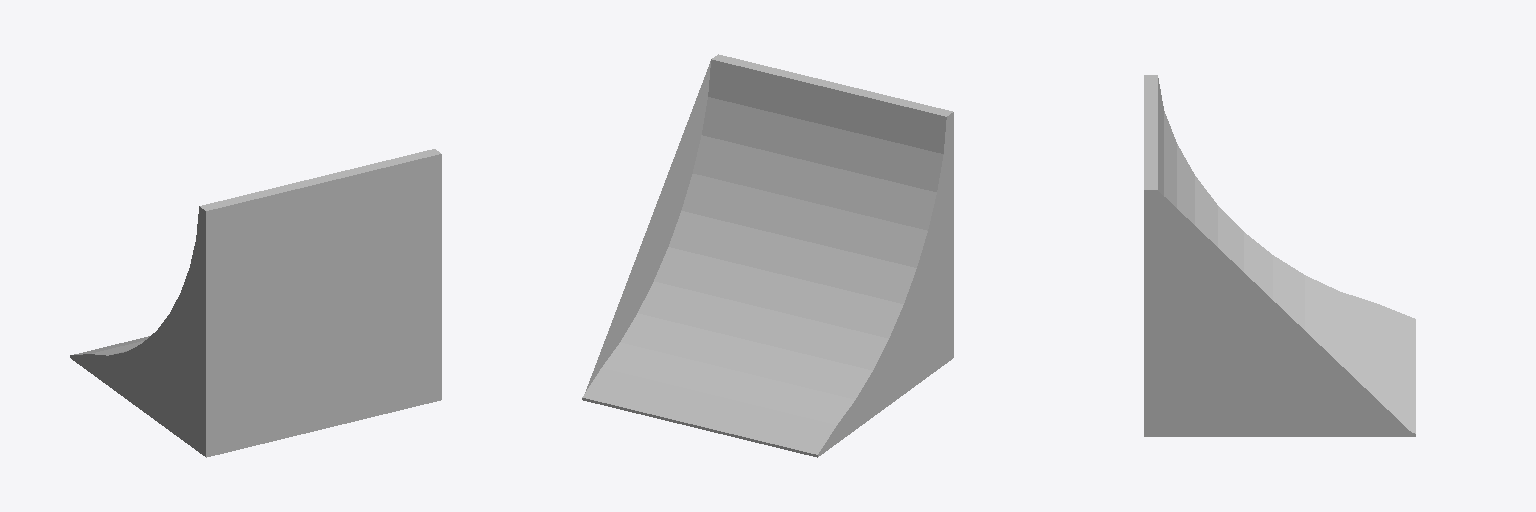
The model's file is slope.obj.
The picture shows the model from 3 angles: view 1: azimuth 30°, elevation 25°; view 2: azimuth 150°, elevation 25°; view 3: azimuth 270°, elevation 25°; orthographic projection.
Parts seen in each view (by area): view 1: Cube_Cube.001; view 2: Cube_Cube.001; view 3: Cube_Cube.001.
Boxes of the visible parts, <box> form: Cube_Cube.001: <box>70,149,441,457</box>; Cube_Cube.001: <box>582,54,953,457</box>; Cube_Cube.001: <box>1144,75,1415,436</box>.
Bounding box in the file's own units: 2 × 2 × 2.